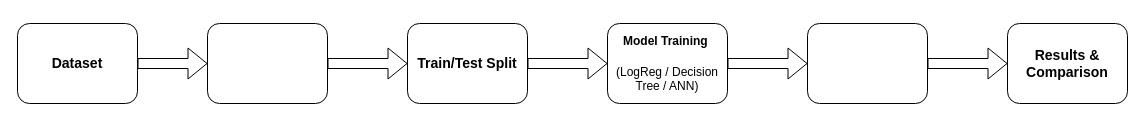
The diagram is 1145 pixels wide and 126 high, and some of its shapes have lost their labels. The shapes that lost their labels are listed below. From the top down, each one's centre as x and y in pixels, then its label:
At pixel 267 63: "Preprocessing".
At pixel 867 63: "Evaluation (Precision, Recall, F1, ROC-AUC)".
